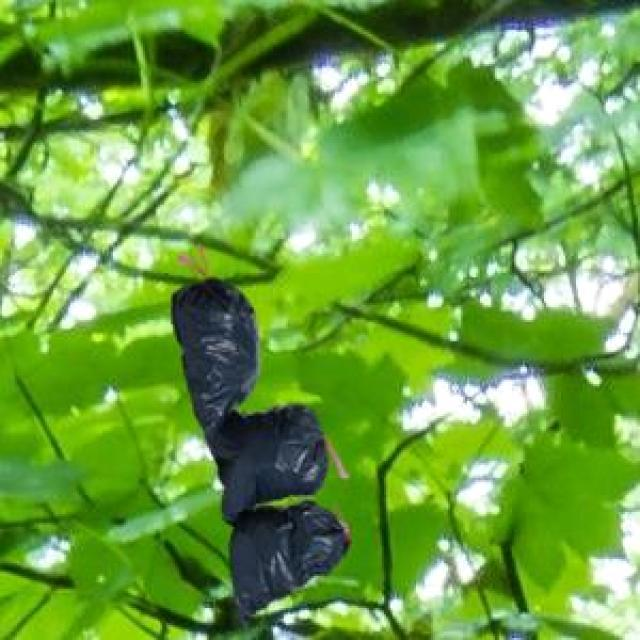Garbage_Bag: (170, 276, 346, 624)
